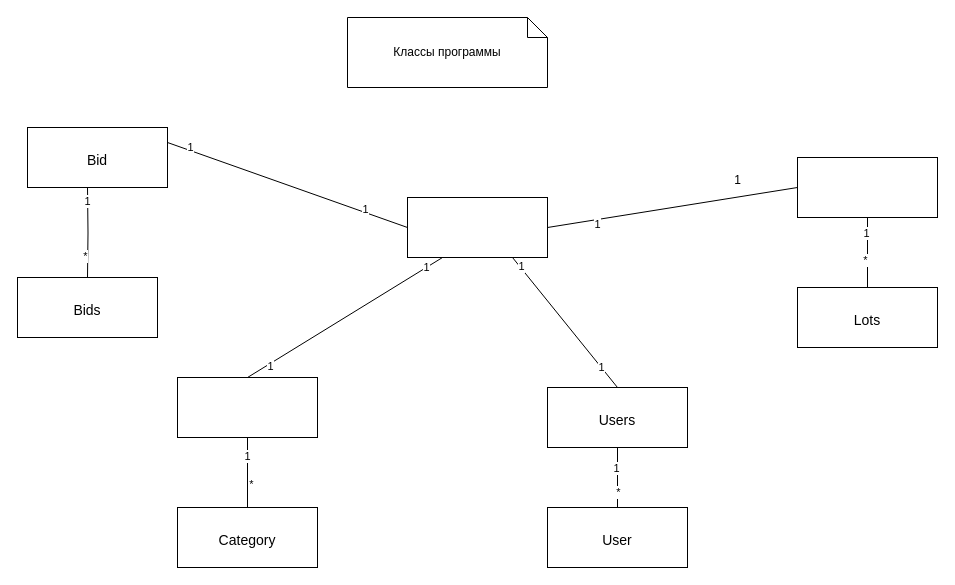
Some shapes in this 955 by 585 pixel diagram are drawn without their labels. The shapes that lost their labels are listed below. From the top down, each one's centre as x and y in pixels, then its label:
At pixel 867 187: "Lot".
At pixel 477 227: "Auction".
At pixel 247 407: "Categories".
